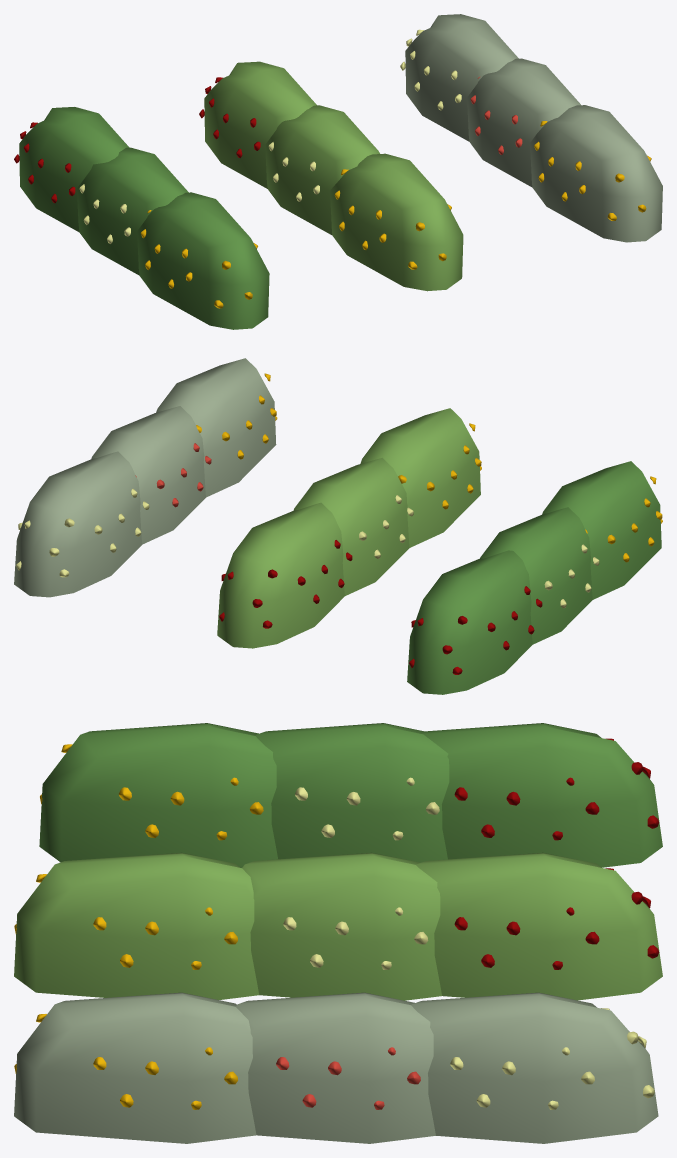
File: Flower_Bush.fbx
3 views of the same model, one above another, from view 1: azimuth 30°, elevation 25°; view 2: azimuth 150°, elevation 25°; view 3: azimuth 270°, elevation 25° (orthographic). The views are drawn at different scales.
Parts seen in each view (by area): view 1: Green (×9), Bush_02_Flower_pSphere42, Bush_03_Flower_pSphere42, Bush_01_Flower_pSphere42; view 2: Green (×9), Bush_01_Flower_pSphere42 (×2), Bush_04_Flower_pSphere42; view 3: Green (×9), Bush_01_Flower_pSphere42 (×5), Bush_04_Flower_pSphere42 (×2), Bush_03_Flower_pSphere42, Bush_02_Flower_pSphere42.
Boxes of the visible parts, x1,y1,x2,y2 form: Green (×9): (19, 14, 662, 329); Bush_02_Flower_pSphere42: (334, 169, 451, 269); Bush_03_Flower_pSphere42: (534, 121, 651, 220); Bush_01_Flower_pSphere42: (140, 210, 257, 308); Green (×9): (14, 358, 661, 694); Bush_01_Flower_pSphere42 (×2): (219, 540, 542, 674); Bush_04_Flower_pSphere42: (16, 488, 149, 577); Green (×9): (14, 723, 662, 1143); Bush_01_Flower_pSphere42 (×5): (40, 738, 659, 969); Bush_04_Flower_pSphere42 (×2): (276, 1008, 654, 1109); Bush_03_Flower_pSphere42: (14, 1014, 237, 1109); Bush_02_Flower_pSphere42: (14, 874, 237, 969).
Size of the model in its own units: 62 by 10.49 by 51.43.
